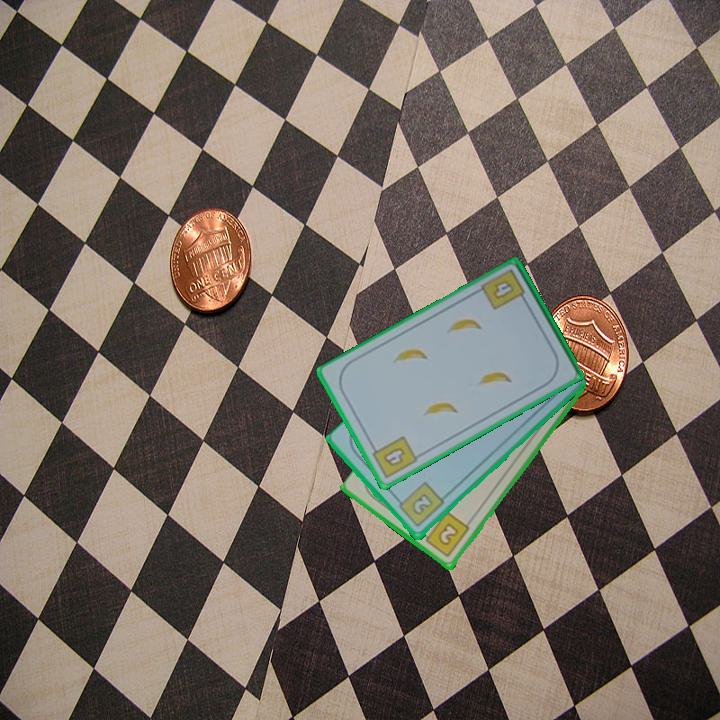2b: (418, 509, 473, 560), (393, 479, 447, 530)
4b: (367, 432, 420, 482), (479, 265, 530, 313)
